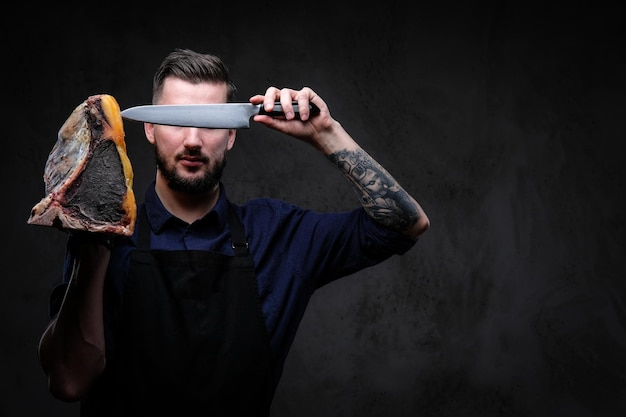knife: (115, 104, 320, 127)
